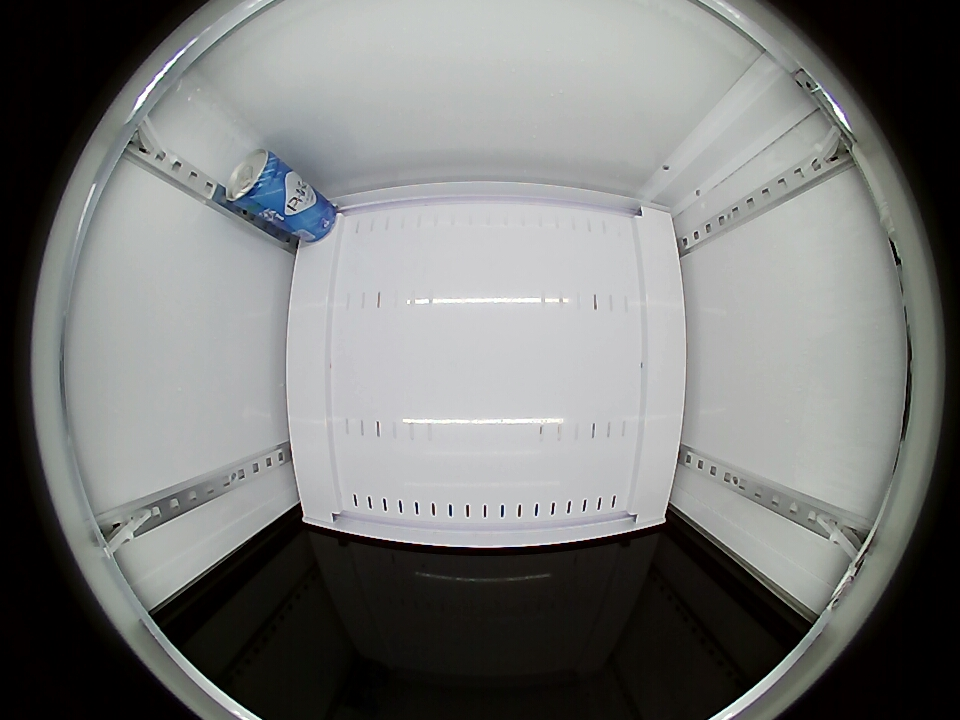qingdaowangzi-2: (225, 150, 289, 215)
